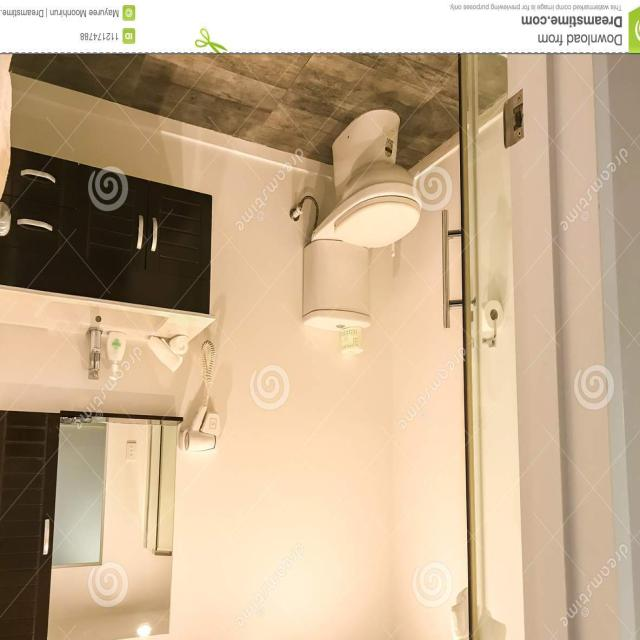dryer: (174, 337, 223, 459)
